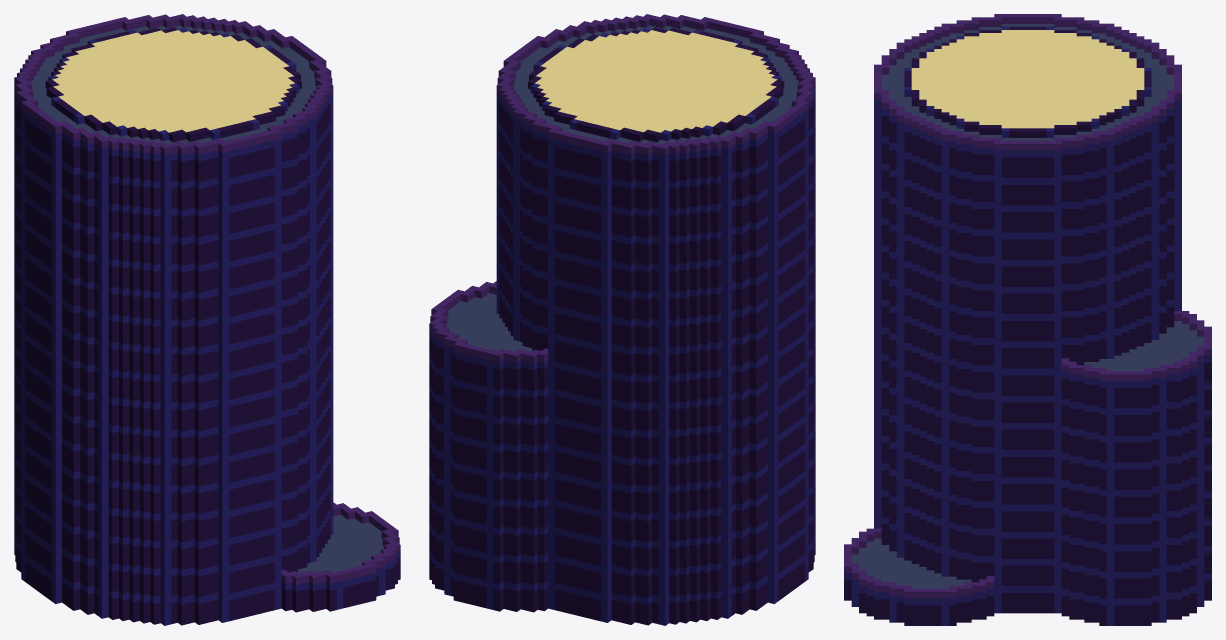
Rendered from skyscraper3-1.obj.
3 renders of one model, left to right at view 1: azimuth 30°, elevation 25°; view 2: azimuth 150°, elevation 25°; view 3: azimuth 270°, elevation 25°, orthographic.
Size of the model in its own units: 4.5 by 6.9 by 4.9.
Materials: 1 (1 with a texture image).
